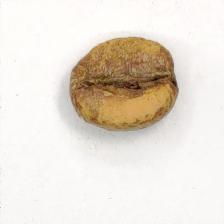NG: (73, 39, 170, 126)
